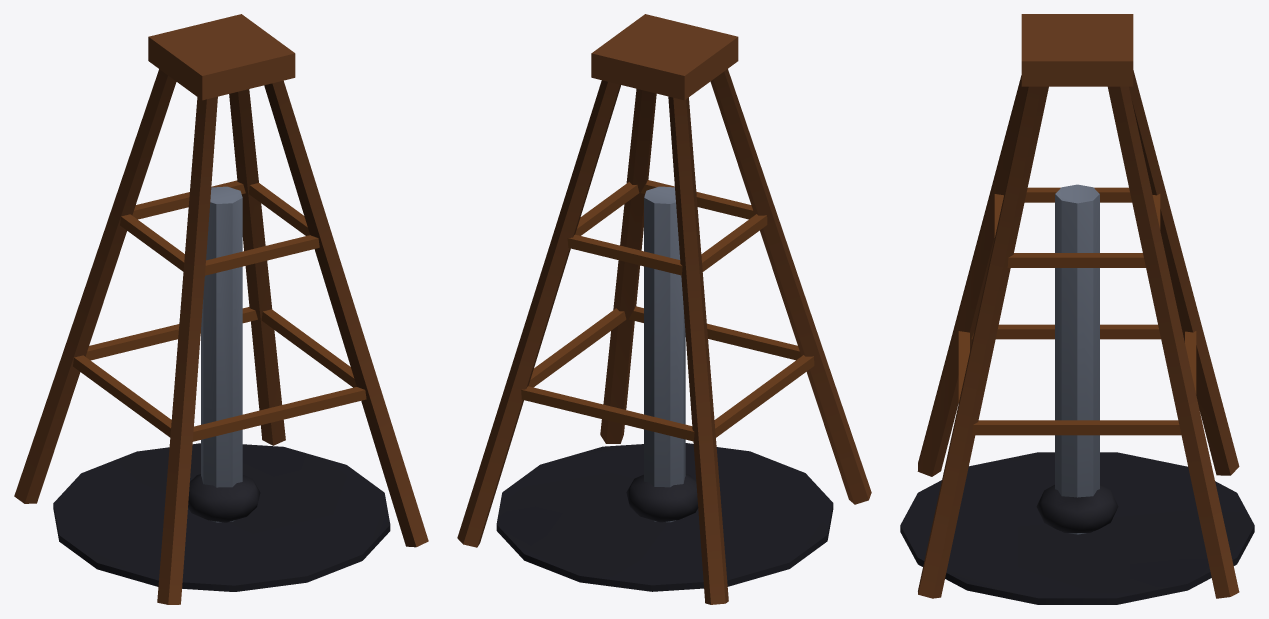
The model's file is n_src_sumpf.glb.
3 renders of one model, left to right at view 1: azimuth 30°, elevation 25°; view 2: azimuth 150°, elevation 25°; view 3: azimuth 270°, elevation 25°, orthographic. The views are drawn at different scales.
Visible parts, largest first — view 1: body, bob_oil; view 2: body, bob_oil; view 3: body, bob_oil.
Boxes of the visible parts, box(x1,y1,x2,y2) form: body: box(14, 14, 428, 604); bob_oil: box(188, 474, 260, 522); body: box(457, 14, 871, 604); bob_oil: box(626, 474, 698, 522); body: box(900, 14, 1254, 604); bob_oil: box(1036, 485, 1118, 532).
Size of the model in its own units: 1.85 by 2.95 by 1.9.
